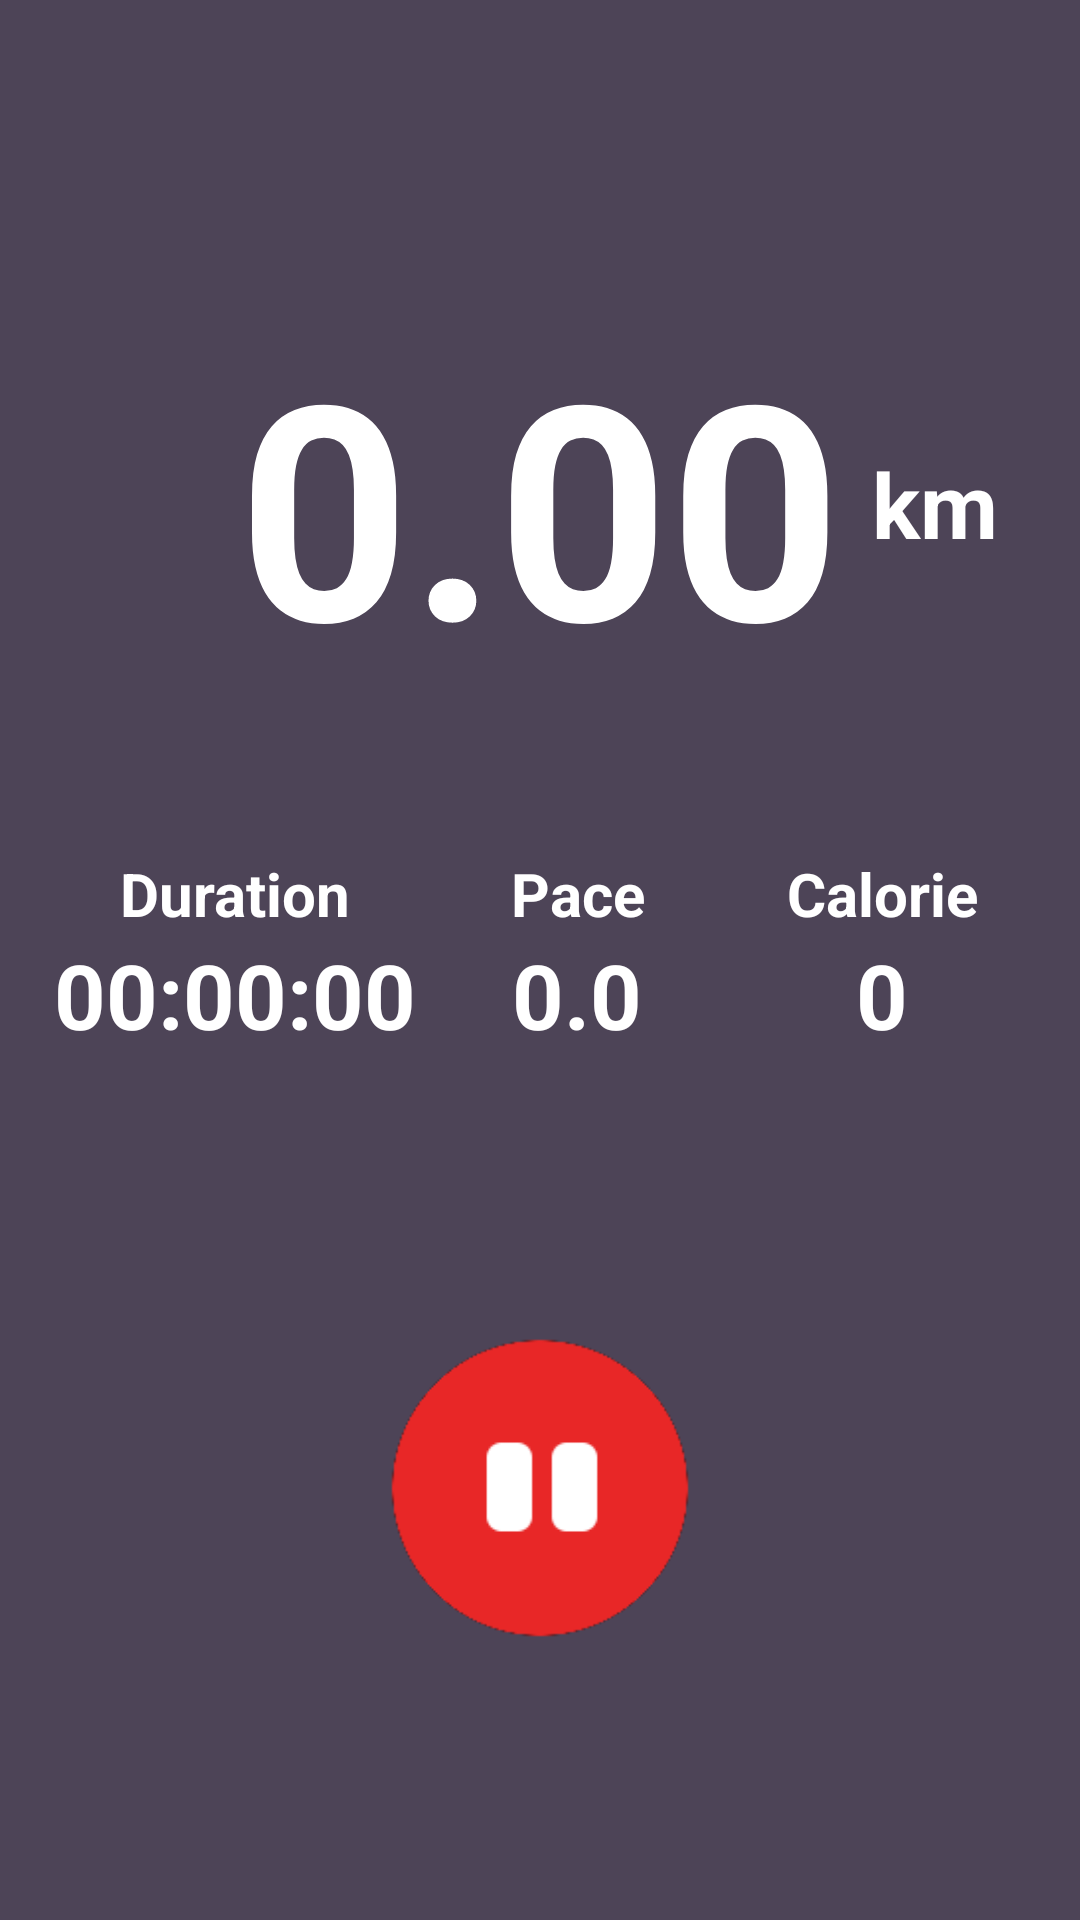

Where to tap for icons on this 1080px x 1920px app screen, as (x,y):
pause: (540,1488)
